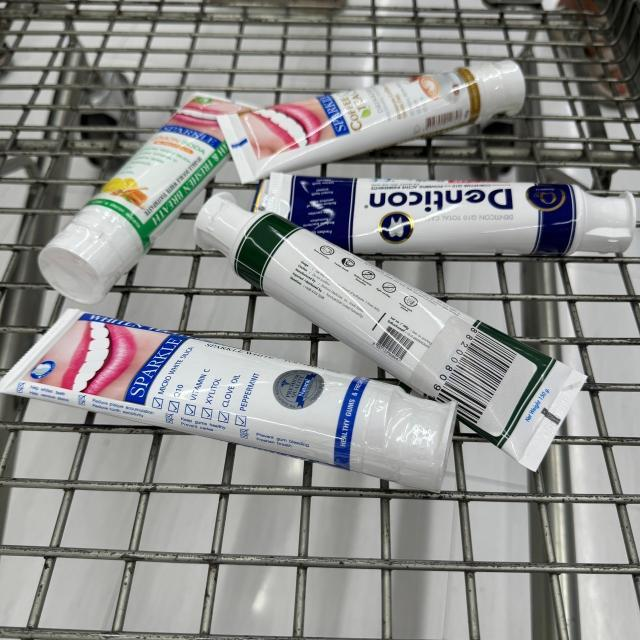Squeeze Tube: (188, 186, 597, 483), (3, 320, 460, 501), (40, 90, 251, 304), (261, 161, 630, 263)
